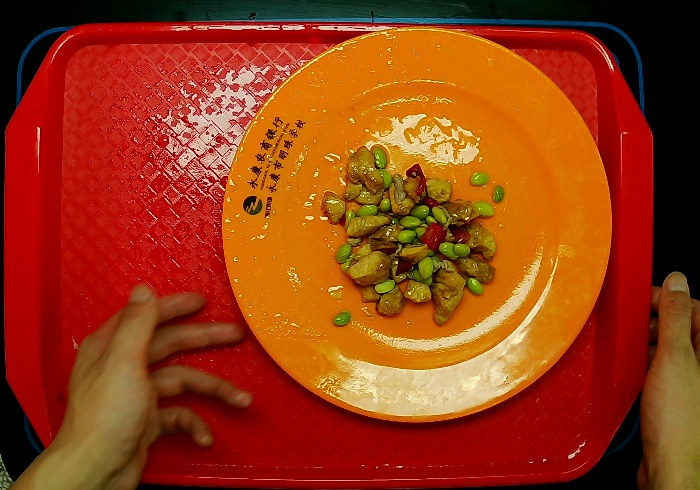YKMZ-Ju_Se_Mian_Pan: (213, 13, 632, 435)
